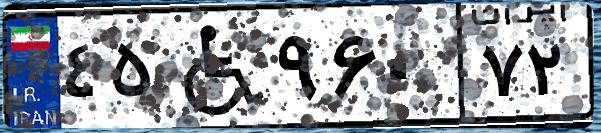0: (385, 28, 445, 110)
2: (525, 38, 570, 115)
4: (57, 26, 110, 100)
5: (110, 28, 158, 98)
6: (330, 28, 385, 110)
7: (475, 38, 525, 113)
9: (270, 28, 330, 110)
ژ (معلولین و جانبازان): (158, 12, 270, 120)
